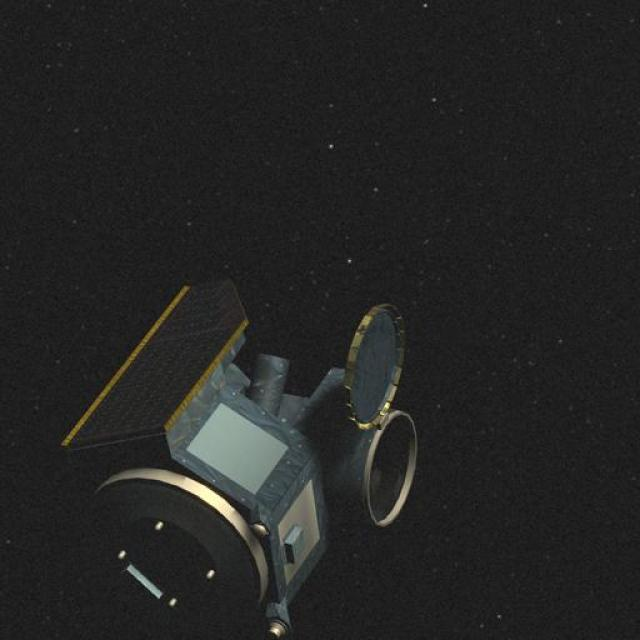debris: (65, 267, 432, 636)
